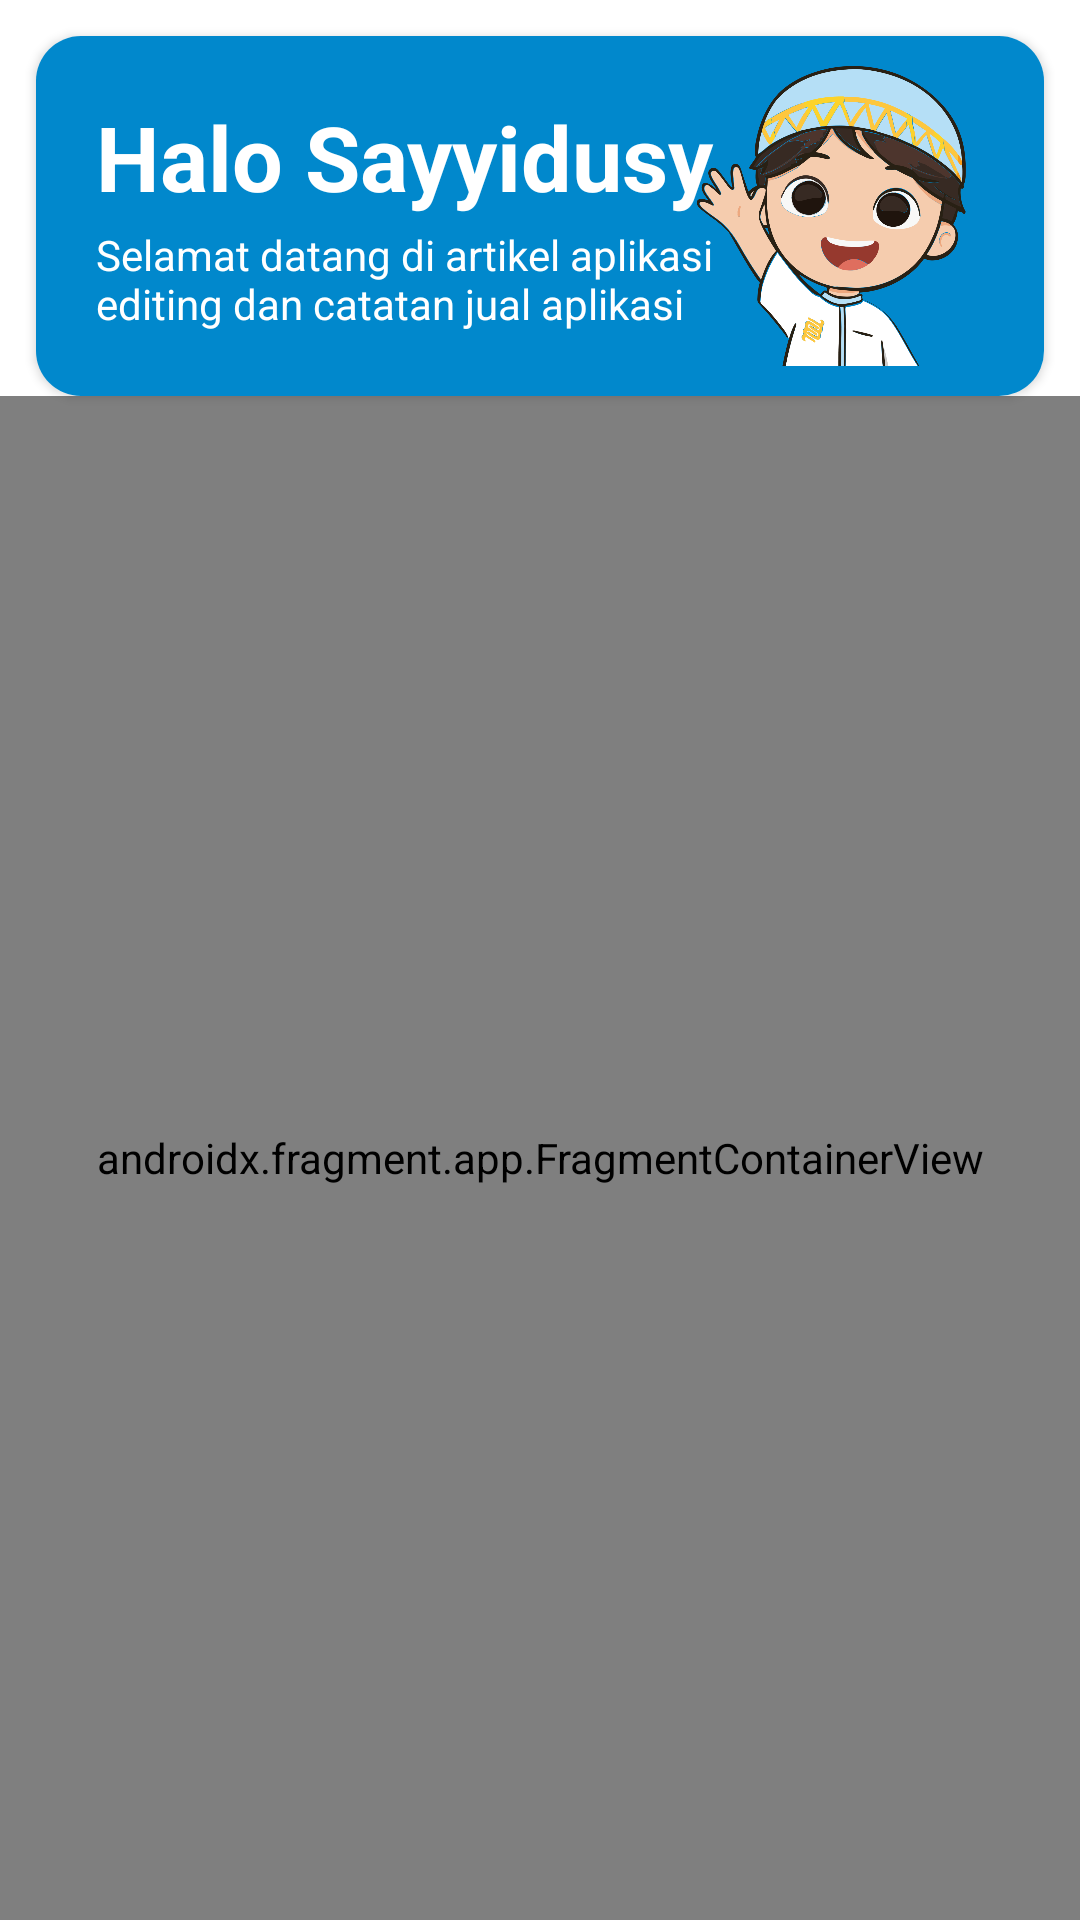

Where icons sit on this 1080 × 1920 app screen, as (x1, y1, x2, y2):
dadah: (654, 66, 966, 366)
